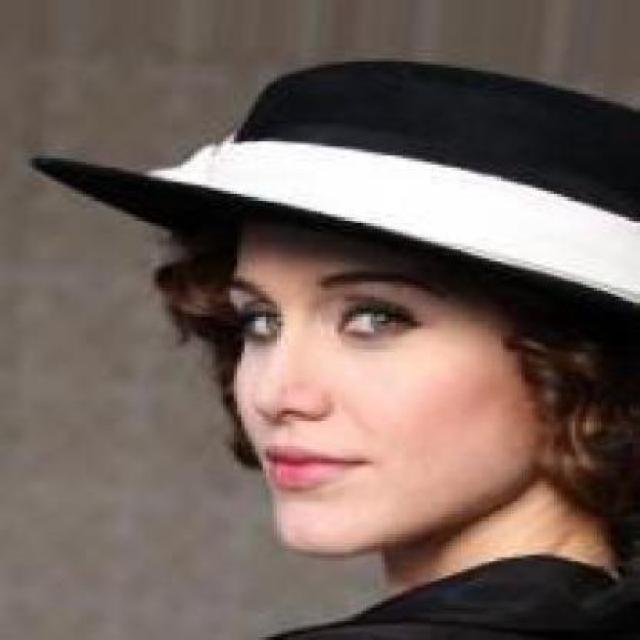closed-mouth: (257, 440, 374, 492)
